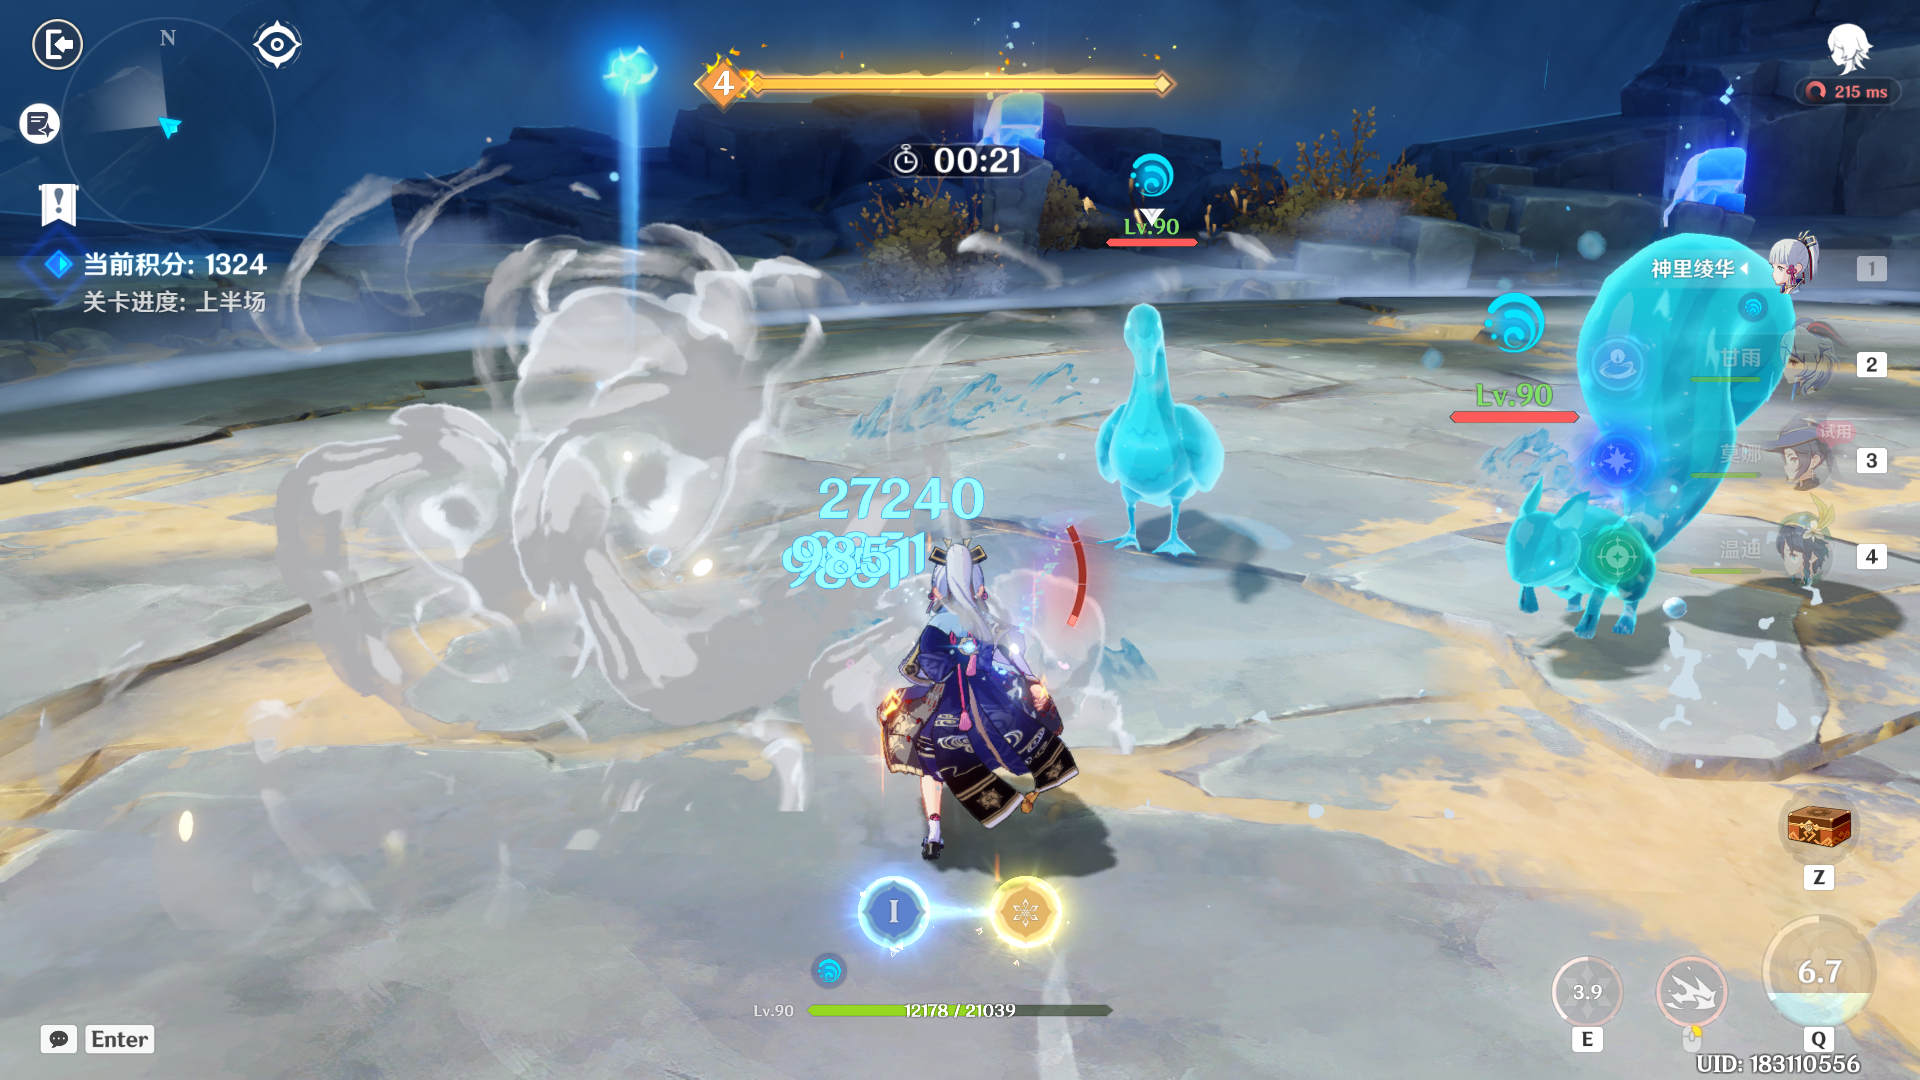character: (855, 502, 1097, 914)
